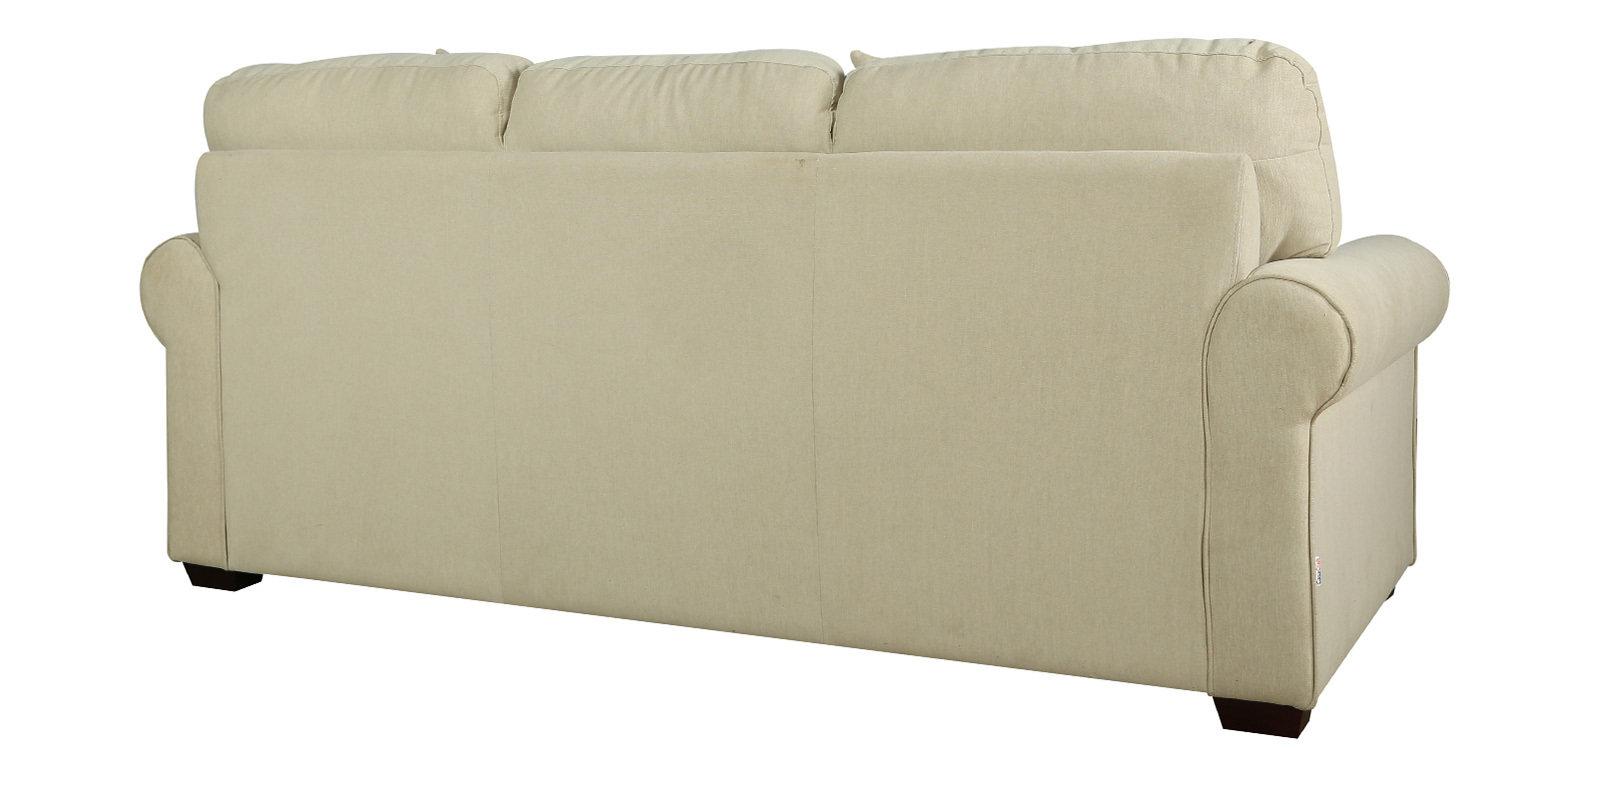Madeira Three Seater Sofa in Beige Colour by CasaCraft: (138, 36, 1451, 741)
